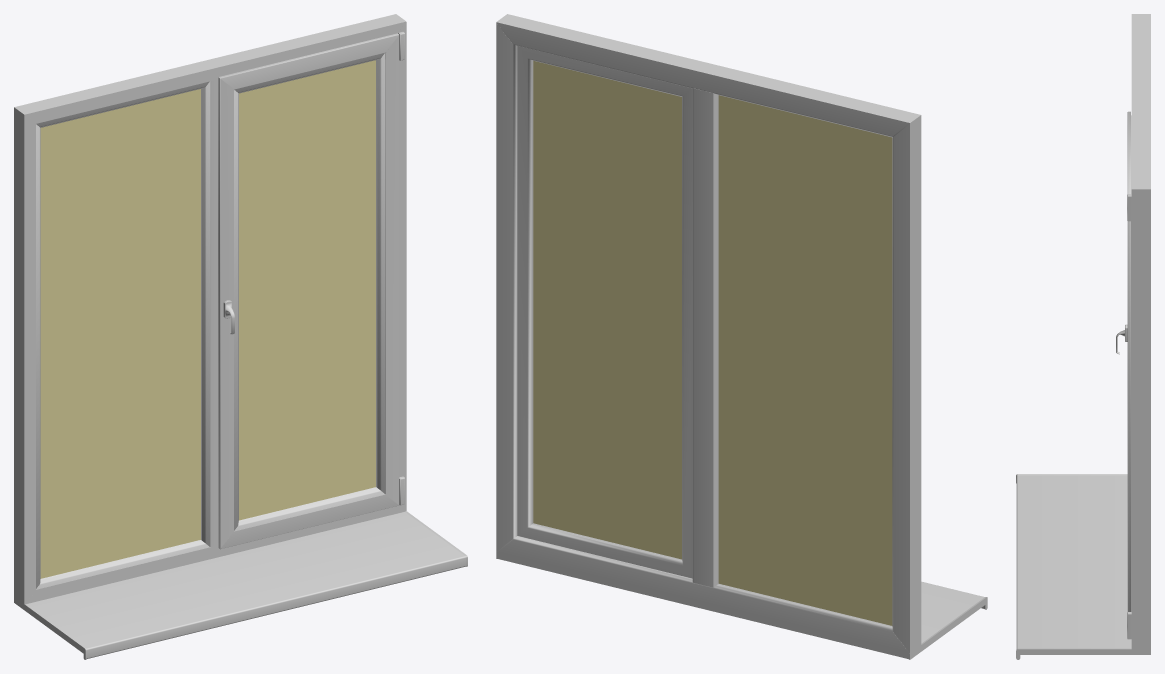
3 views of the same model, side by side, from view 1: azimuth 30°, elevation 25°; view 2: azimuth 150°, elevation 25°; view 3: azimuth 270°, elevation 25° (orthographic). The views are drawn at different scales.
Visible parts, largest first — view 1: glass, window; view 2: glass, window; view 3: window.
Boxes of the visible parts, x1=… form: glass: x1=40, y1=60, x2=375, y2=578; window: x1=14, y1=14, x2=467, y2=659; glass: x1=533, y1=61, x2=892, y2=625; window: x1=496, y1=14, x2=987, y2=659; window: x1=1016, y1=14, x2=1150, y2=659.
Size of the model in its own units: 1.12 by 1.41 by 0.3655.
